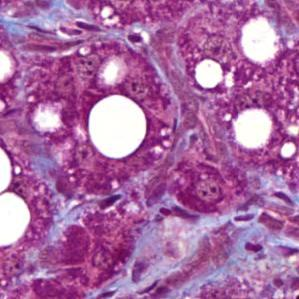steatosis: (85, 95, 147, 158), (241, 17, 281, 64), (235, 108, 274, 150), (195, 58, 222, 90)
